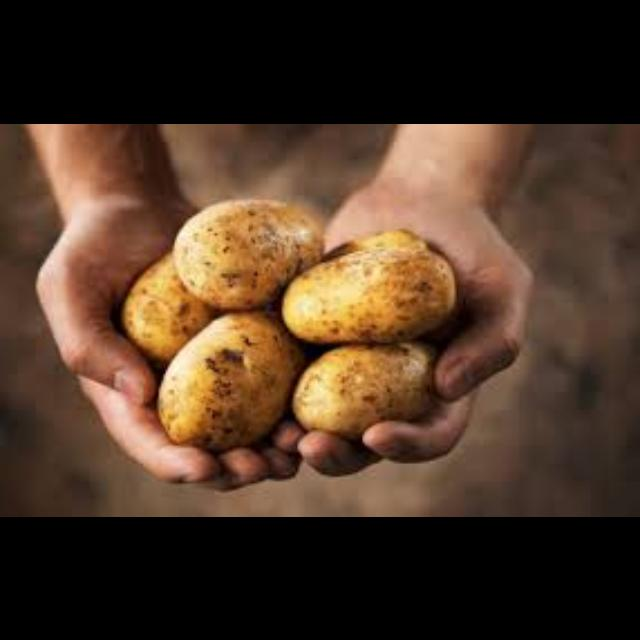Diseased-fungal potato: (278, 225, 467, 349), (158, 306, 312, 456), (169, 190, 329, 314)
